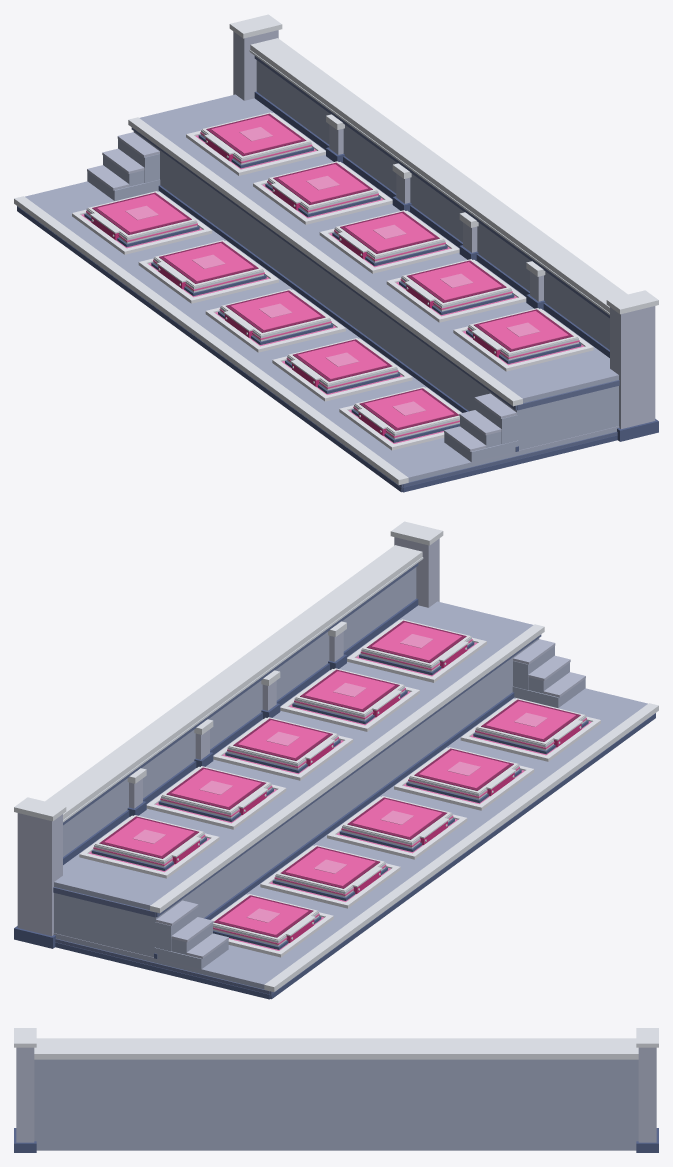
The model's file is GunStand_OneMesh.glb.
The picture shows the model from 3 angles, top to bottom: view 1: azimuth 30°, elevation 25°; view 2: azimuth 150°, elevation 25°; view 3: azimuth 270°, elevation 25°; orthographic projection. The views are drawn at different scales.
Visible parts, largest first — view 1: GunStand; view 2: GunStand; view 3: GunStand.
Boxes of the visible parts, <box> form: GunStand: <box>14,14,658,492</box>; GunStand: <box>14,521,658,999</box>; GunStand: <box>14,1028,658,1152</box>.
Size of the model in its own units: 16.9 by 8.3 by 44.4.
Materials: 1 (1 with a texture image).
